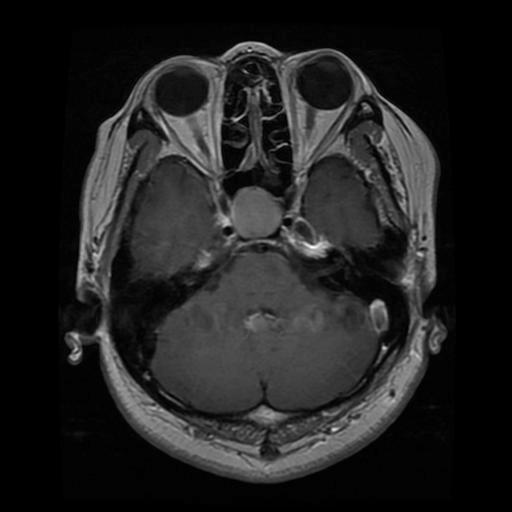Tumour-Pituitary: (228, 185, 288, 240)
